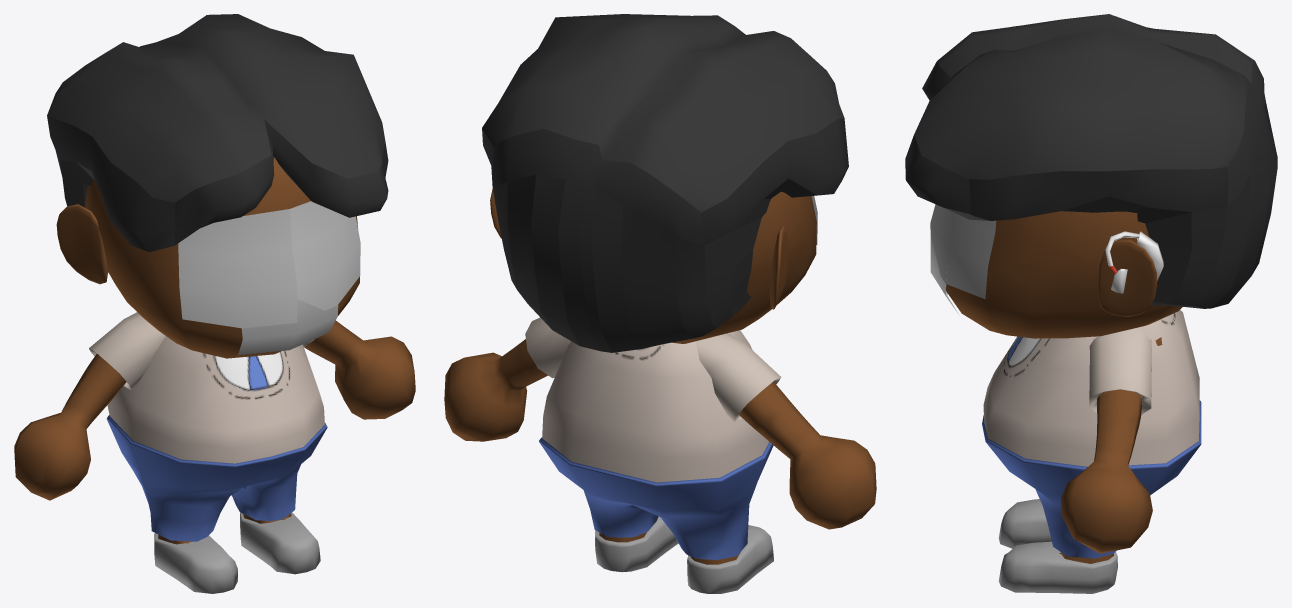
File: Hard of hearing V2.fbx
3 views of the same model, side by side, from view 1: azimuth 30°, elevation 25°; view 2: azimuth 150°, elevation 25°; view 3: azimuth 270°, elevation 25° (orthographic). The views are drawn at different scales.
Visible parts, largest first — view 1: Hair_v2_5, shirt_n_pants9, polySurface4, eyes, pCube53, pCube54, pCylinder22, mouth; view 2: Hair_v2_5, shirt_n_pants9, polySurface4, pCylinder22, pCube53, pCube54, pCylinder23; view 3: Hair_v2_5, polySurface4, shirt_n_pants9, pCube54, eyes, pCylinder23, pCube53, accessory1:pCube3.
Part boxes in pixels (<box>): Hair_v2_5: <box>47,14,388,252</box>; shirt_n_pants9: <box>106,336,327,541</box>; polySurface4: <box>14,157,415,544</box>; eyes: <box>178,201,360,328</box>; pCube53: <box>154,533,237,593</box>; pCube54: <box>240,512,320,574</box>; pCylinder22: <box>89,312,165,390</box>; mouth: <box>238,282,338,355</box>; Hair_v2_5: <box>482,14,848,352</box>; shirt_n_pants9: <box>539,330,773,560</box>; polySurface4: <box>444,188,876,564</box>; pCylinder22: <box>696,333,780,421</box>; pCube53: <box>687,525,773,593</box>; pCube54: <box>595,516,678,572</box>; pCylinder23: <box>525,317,570,378</box>; Hair_v2_5: <box>905,14,1277,308</box>; polySurface4: <box>946,211,1182,563</box>; shirt_n_pants9: <box>982,310,1201,558</box>; pCube54: <box>998,541,1117,593</box>; eyes: <box>930,204,996,298</box>; pCylinder23: <box>1089,328,1151,414</box>; pCube53: <box>998,499,1051,548</box>; accessory1:pCube3: <box>1105,231,1163,281</box>.
Size of the model in its own units: 5.07 by 6.18 by 3.88.
